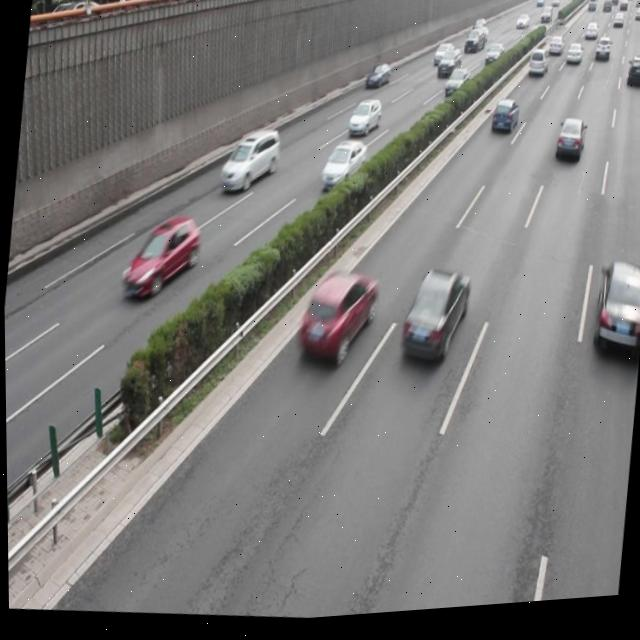car: (290, 269, 376, 377), (118, 210, 202, 307), (395, 268, 470, 375), (590, 266, 640, 366), (218, 127, 281, 200), (318, 141, 367, 198), (347, 100, 382, 142), (553, 125, 583, 171), (489, 103, 519, 144), (441, 72, 469, 105), (363, 65, 389, 95)
